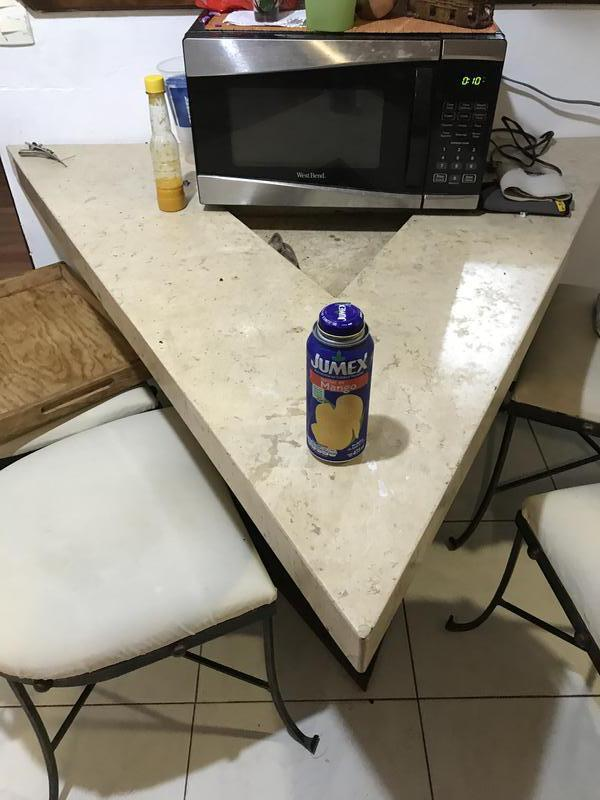jugo_jumex: (305, 300, 374, 463)
